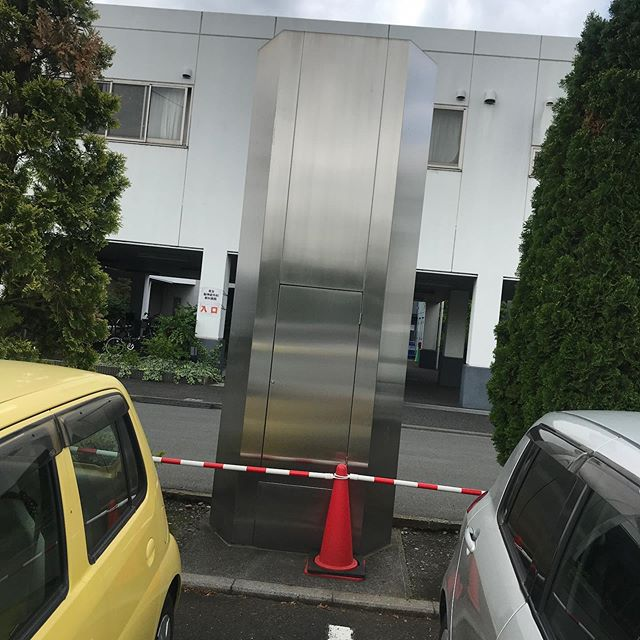building: (82, 5, 550, 418)
traffic cone: (313, 458, 374, 591)
tree: (492, 1, 640, 454), (2, 1, 113, 382)
